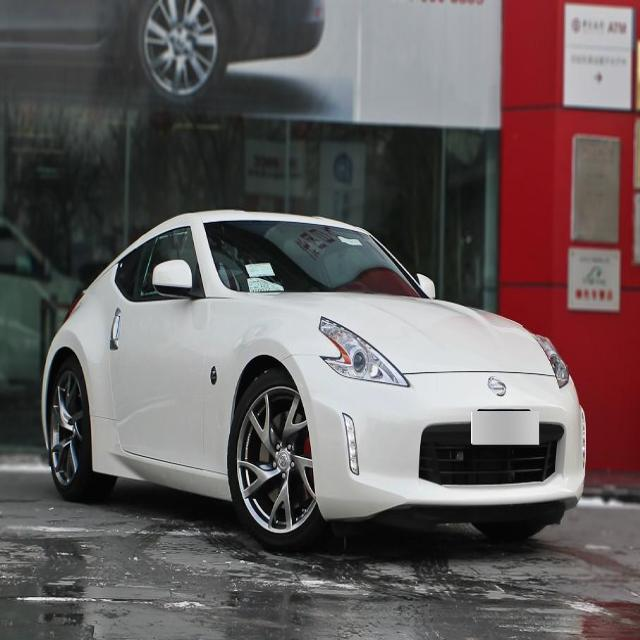front_bumper: (279, 348, 586, 522)
front_glass: (202, 218, 427, 300)
front_left_side_light: (532, 331, 570, 390)
front_left_side_mirror: (415, 270, 436, 297)
front_right_side_door: (107, 220, 212, 475)
front_right_side_light: (317, 312, 410, 390)
front_right_side_mirror: (153, 254, 194, 298)
wheel: (228, 368, 333, 550), (48, 362, 108, 499)
